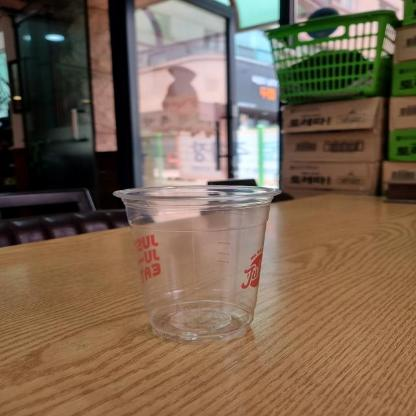Plastic Cup: (107, 180, 289, 348)
